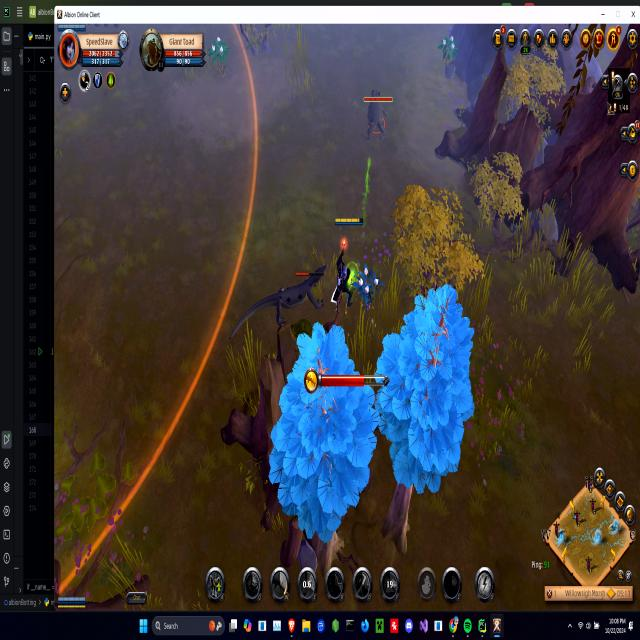hide: (351, 261, 384, 315), (204, 28, 232, 84), (436, 30, 459, 72)
ore: (227, 259, 333, 338), (359, 77, 394, 146)
red: (327, 210, 365, 326), (56, 20, 90, 36)
wisp caged: (365, 279, 479, 560), (267, 317, 378, 578)
